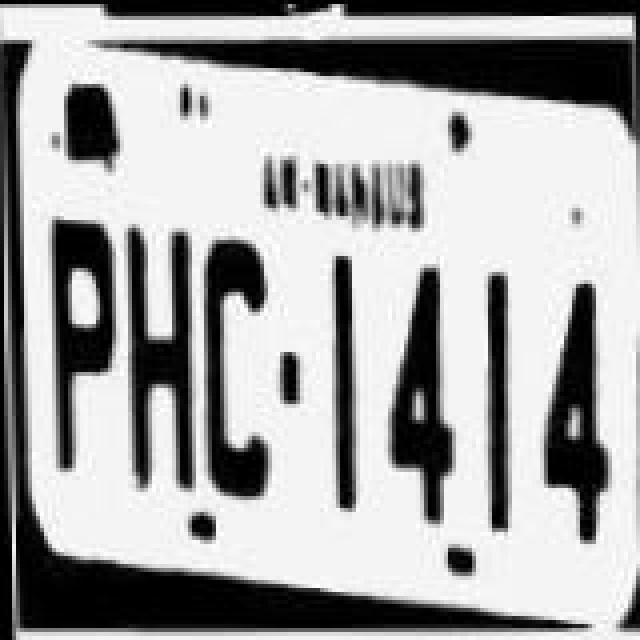1: (466, 262, 522, 546), (320, 226, 368, 510)
4: (534, 268, 622, 560), (380, 252, 464, 528)
C: (194, 232, 278, 504)
H: (120, 220, 208, 492)
P: (40, 214, 128, 498)
